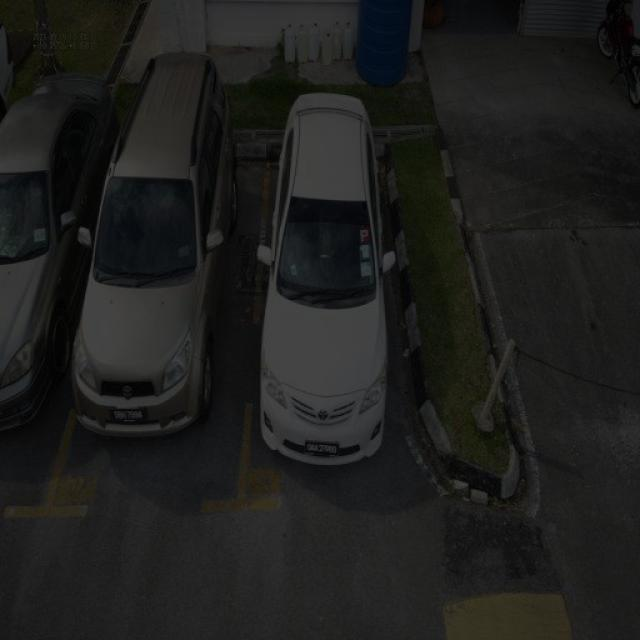Legalparking: (72, 52, 236, 434), (256, 94, 395, 464), (0, 74, 119, 429)
